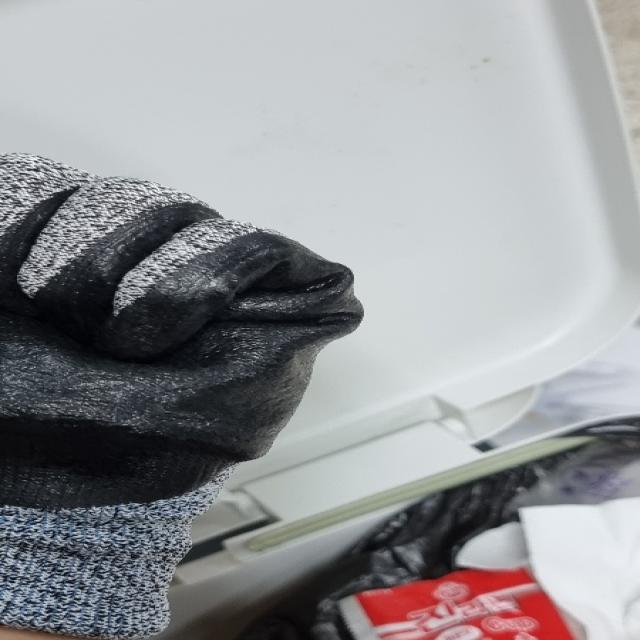Gloves: (0, 147, 372, 640)
